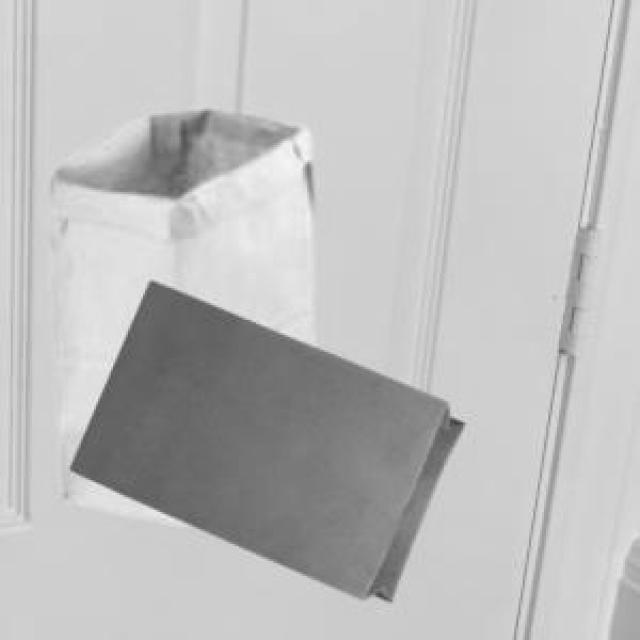paper: (66, 277, 461, 597), (47, 107, 309, 521)
